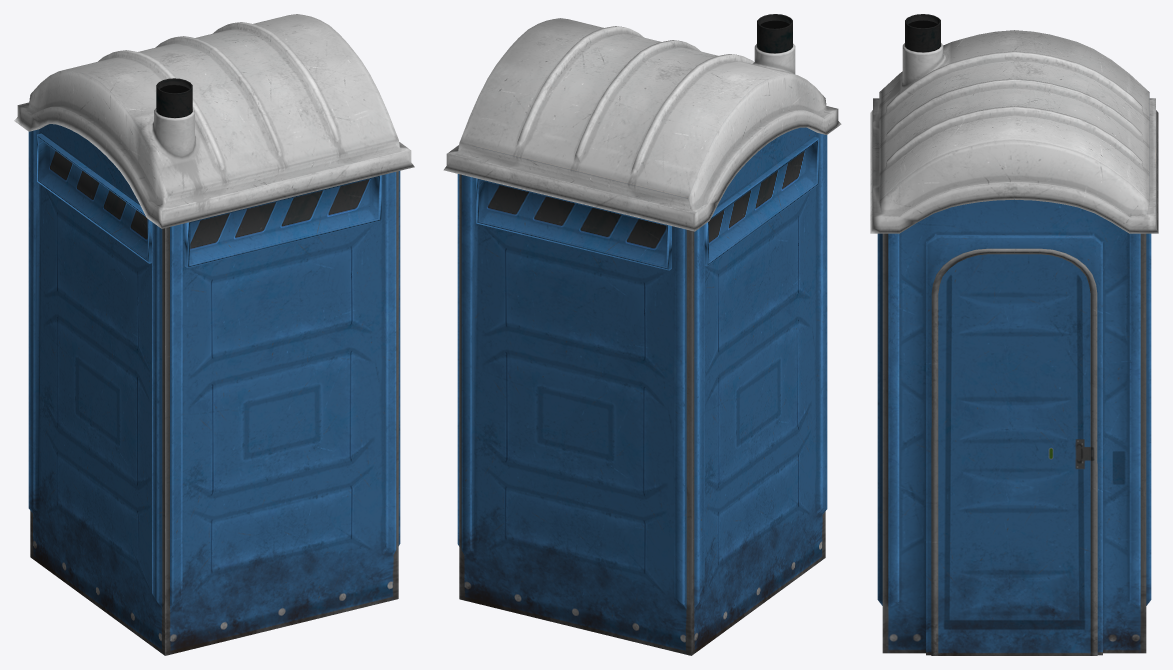
The model's file is baño portatil-1.fbx.
The picture shows the model from 3 angles, left to right: view 1: azimuth 30°, elevation 25°; view 2: azimuth 150°, elevation 25°; view 3: azimuth 270°, elevation 25°; orthographic projection. The views are drawn at different scales.
Parts seen in each view (by area): view 1: defaultMaterial.021; view 2: defaultMaterial.021; view 3: defaultMaterial.021.
Part boxes in pixels (x1,y1,x2,y2): defaultMaterial.021: (14,14,414,655); defaultMaterial.021: (443,14,841,655); defaultMaterial.021: (870,14,1158,655).
Size of the model in its own units: 96.79 by 200 by 97.76.
